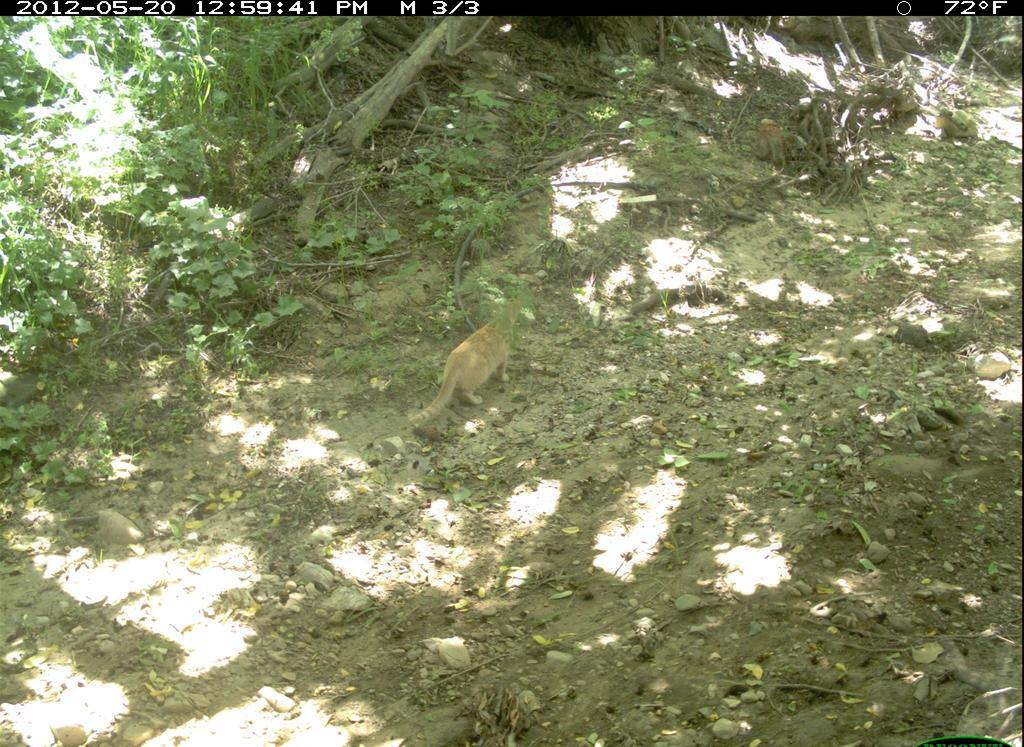cat: (406, 290, 529, 437)
